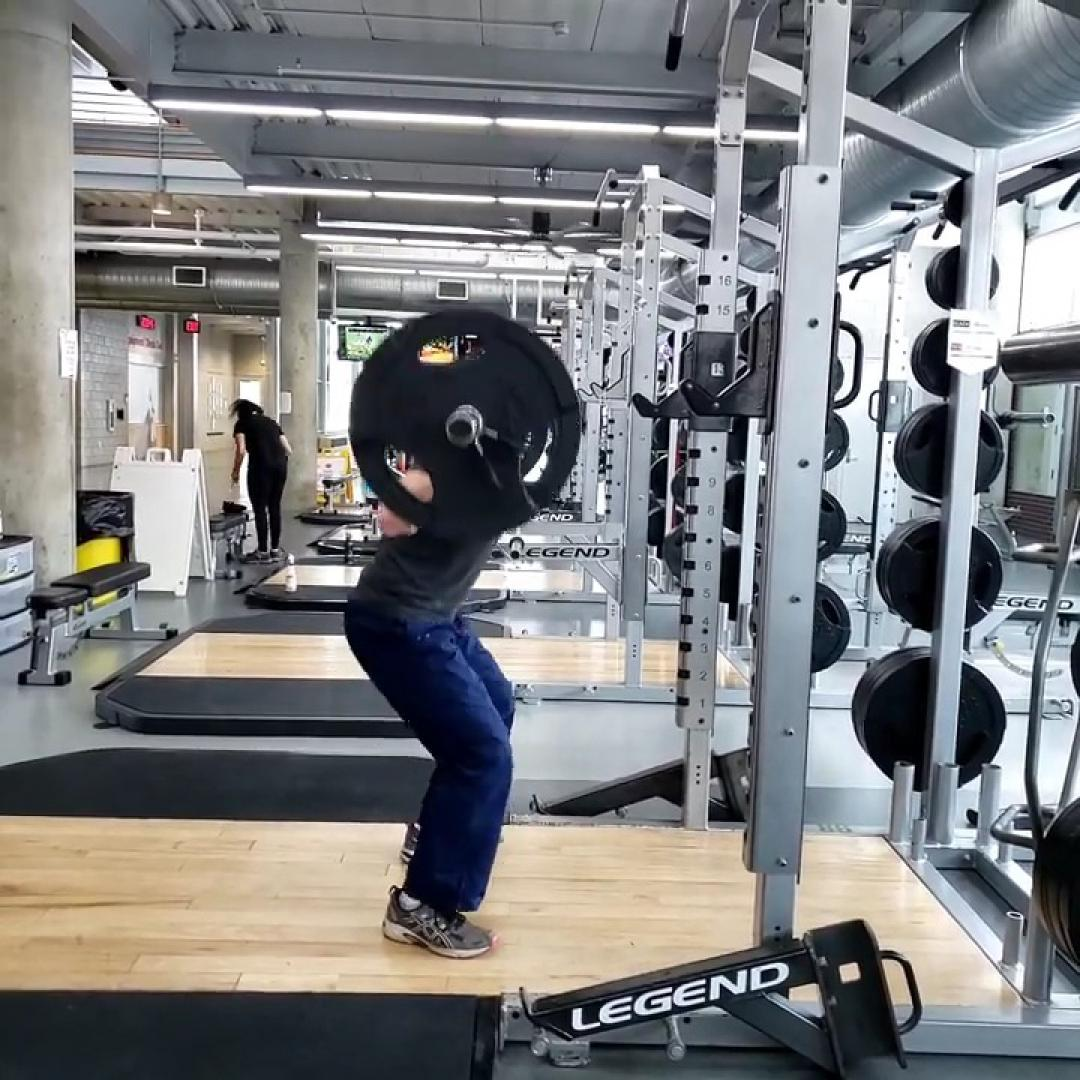Bar: (444, 409, 480, 447)
Barbell: (346, 308, 582, 538)
